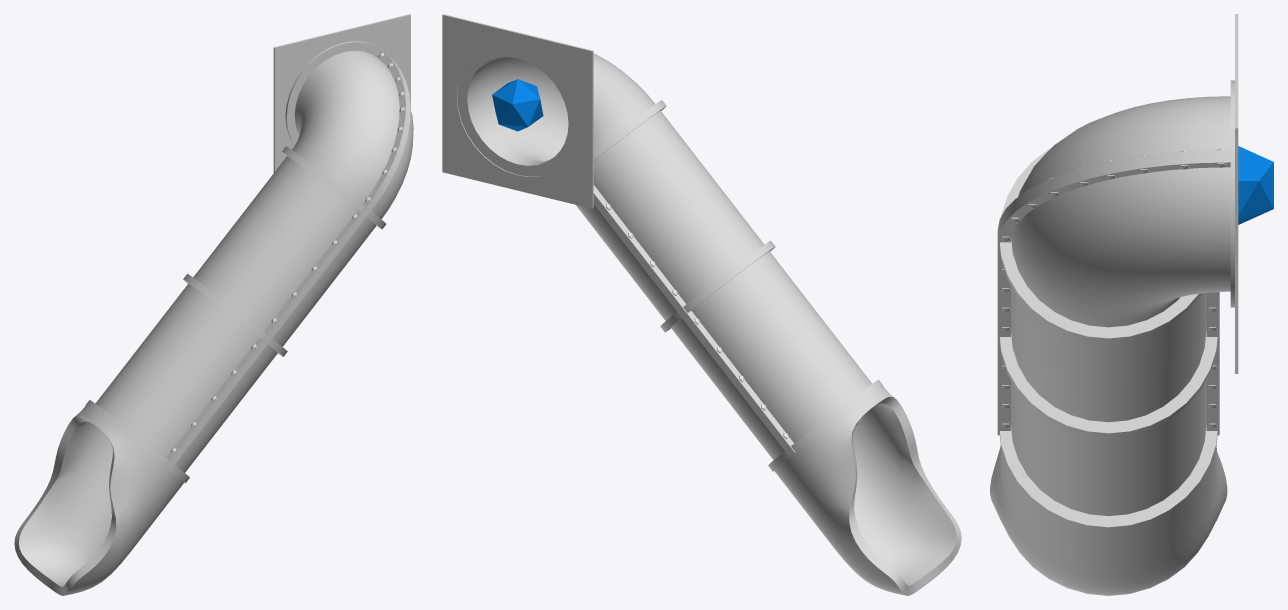
Rendered from Sidewinder 7' R.glb.
3 renders of one model, left to right at view 1: azimuth 30°, elevation 25°; view 2: azimuth 150°, elevation 25°; view 3: azimuth 270°, elevation 25°, orthographic. The views are drawn at different scales.
Visible parts, largest first — view 1: Side winder slide.005; view 2: Side winder slide.005, Joint.049; view 3: Side winder slide.005, Joint.049.
Boxes of the visible parts, x1=… form: Side winder slide.005: x1=14, y1=14, x2=413, y2=595; Side winder slide.005: x1=442, y1=14, x2=961, y2=595; Joint.049: x1=492, y1=79, x2=543, y2=131; Side winder slide.005: x1=990, y1=14, x2=1238, y2=595; Joint.049: x1=1238, y1=146, x2=1273, y2=224.
Size of the model in its own units: 2.72 by 2.89 by 0.9577.
